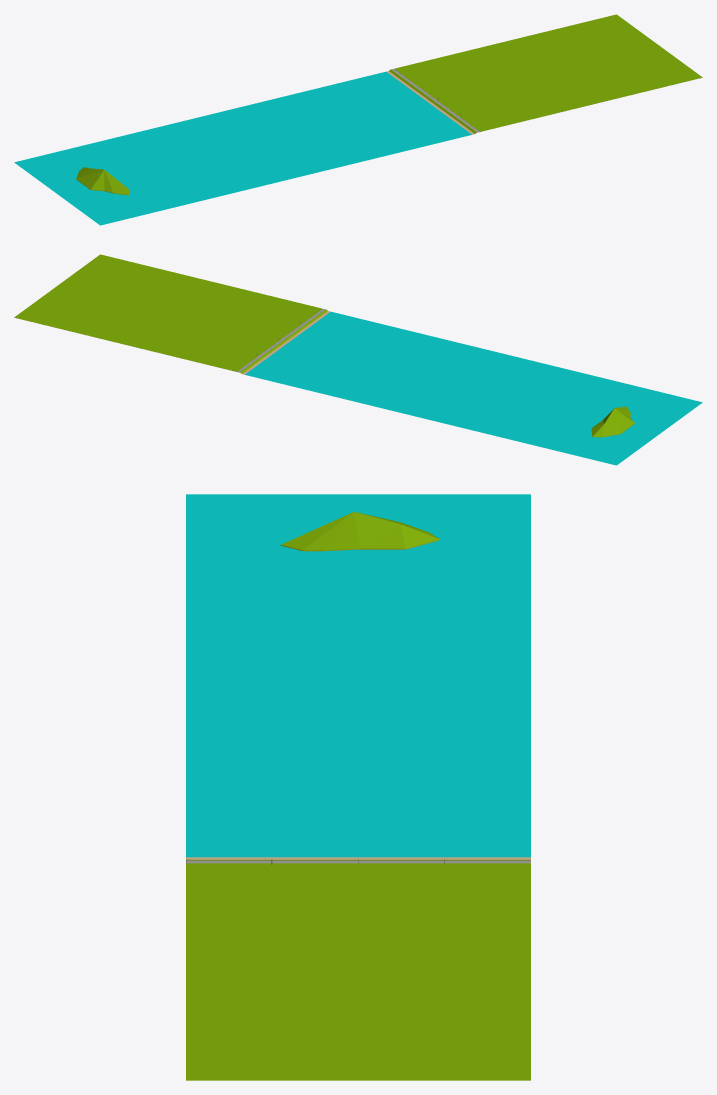
Rendered from searoad02.glb.
3 views of the same model, one above another, from view 1: azimuth 30°, elevation 25°; view 2: azimuth 150°, elevation 25°; view 3: azimuth 270°, elevation 25° (orthographic). The views are drawn at different scales.
Visible parts, largest first — view 1: Geom3D (×2); view 2: Geom3D (×2); view 3: Geom3D (×4).
Boxes of the visible parts, x1,y1,x2,y2 form: Geom3D (×2): (14, 14, 702, 225); Geom3D (×2): (14, 254, 702, 465); Geom3D (×4): (186, 494, 530, 1080).
Size of the model in its own units: 1.65e+07 by 362837 by 4085865.
Materials: 9 (3 with a texture image).
